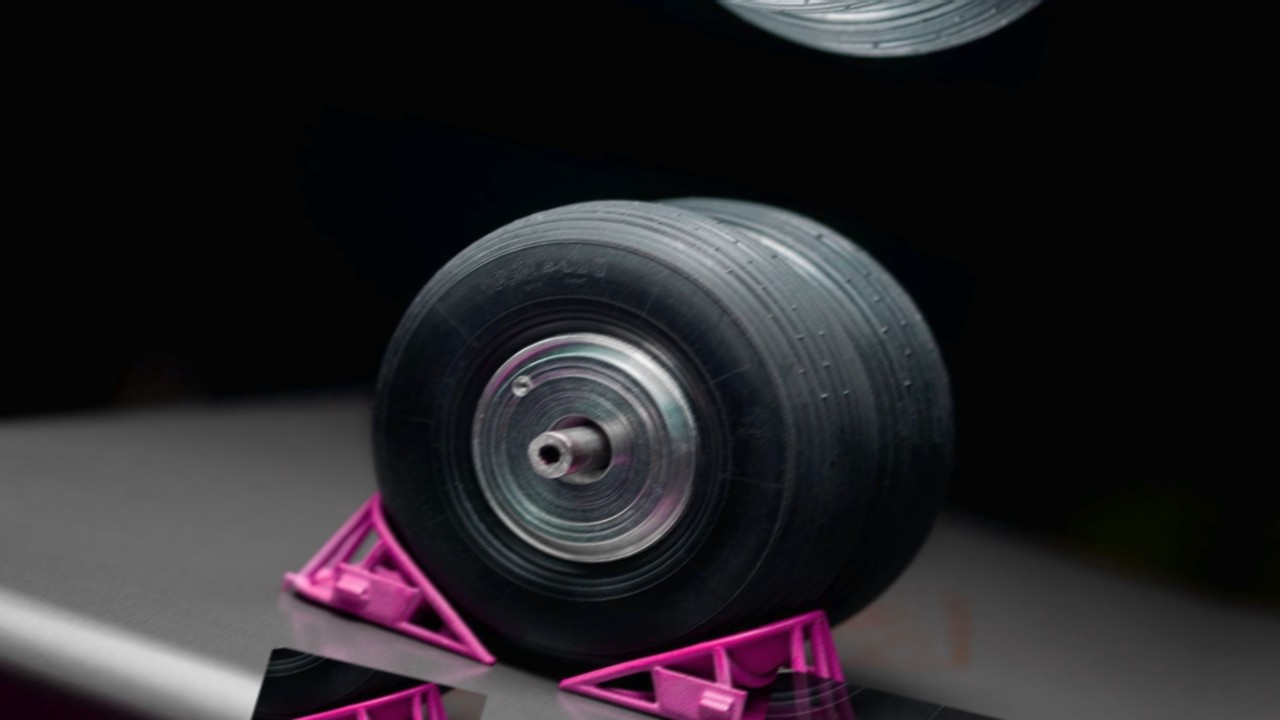chock: (551, 556, 899, 720), (268, 475, 545, 671), (241, 643, 491, 720)
wheel: (296, 147, 947, 720), (471, 166, 1013, 717), (654, 0, 1172, 108)
